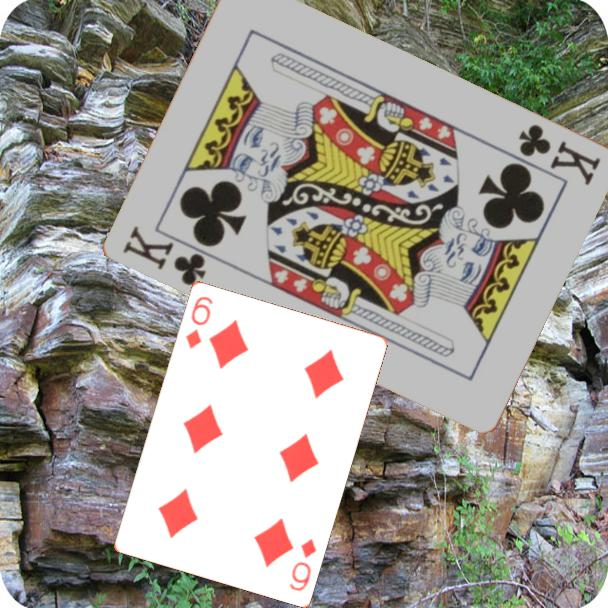c13: (119, 221, 210, 289), (515, 120, 604, 188)
d06: (182, 292, 216, 351), (286, 534, 319, 594)
